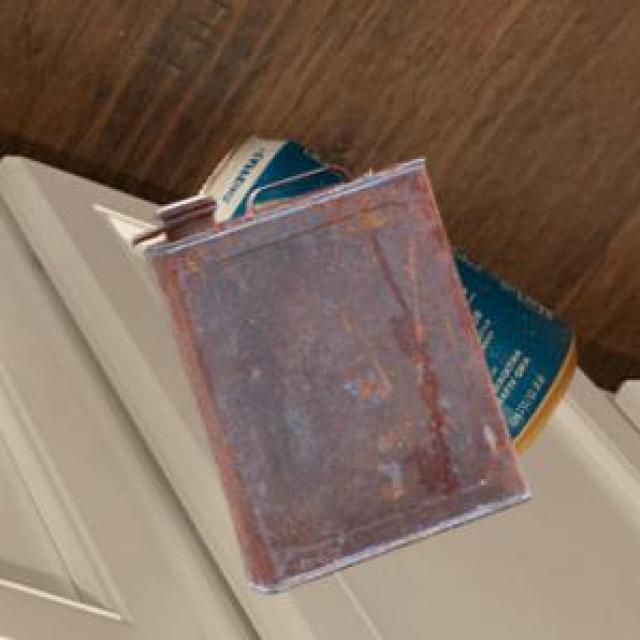logam: (128, 162, 527, 596), (197, 134, 574, 459)
